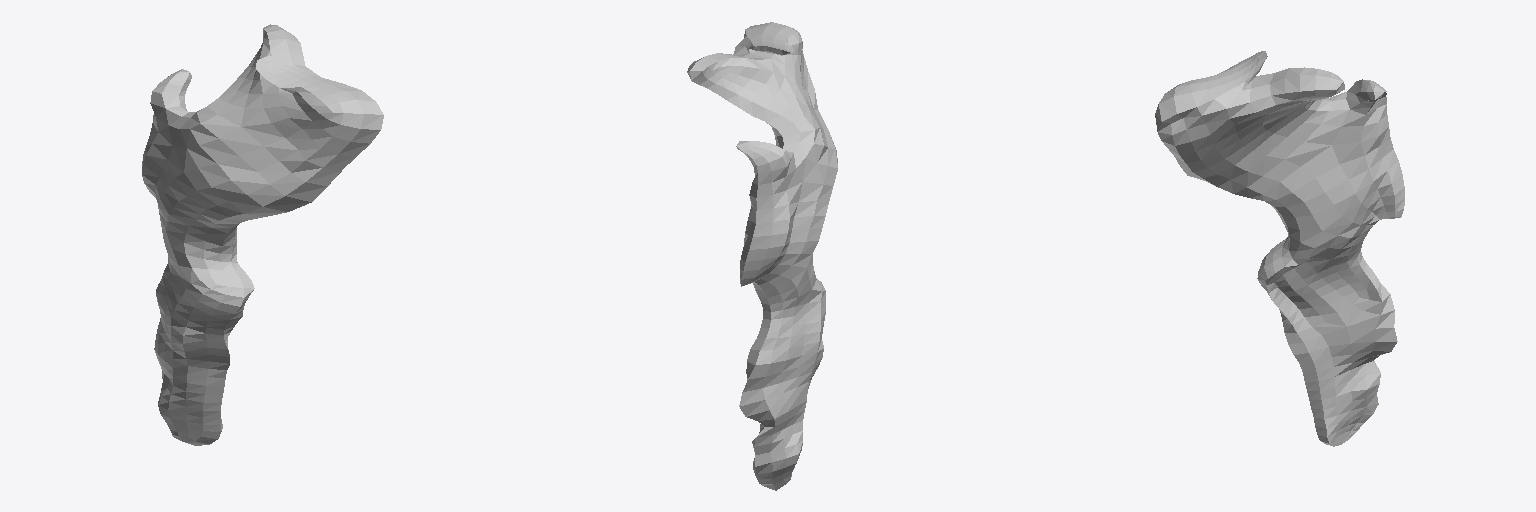
The model's file is LavaNarrow.OBJ.
The picture shows the model from 3 angles: view 1: azimuth 30°, elevation 25°; view 2: azimuth 150°, elevation 25°; view 3: azimuth 270°, elevation 25°; orthographic projection.
Visible parts, largest first — view 1: ZBrush_defualt_group; view 2: ZBrush_defualt_group; view 3: ZBrush_defualt_group.
Part boxes in pixels (left/top/right/bottom): ZBrush_defualt_group: left=142, top=24, right=383, bottom=445; ZBrush_defualt_group: left=687, top=22, right=837, bottom=490; ZBrush_defualt_group: left=1155, top=51, right=1404, bottom=446.
Bounding box in the file's own units: 6.64 × 18.7 × 10.41.